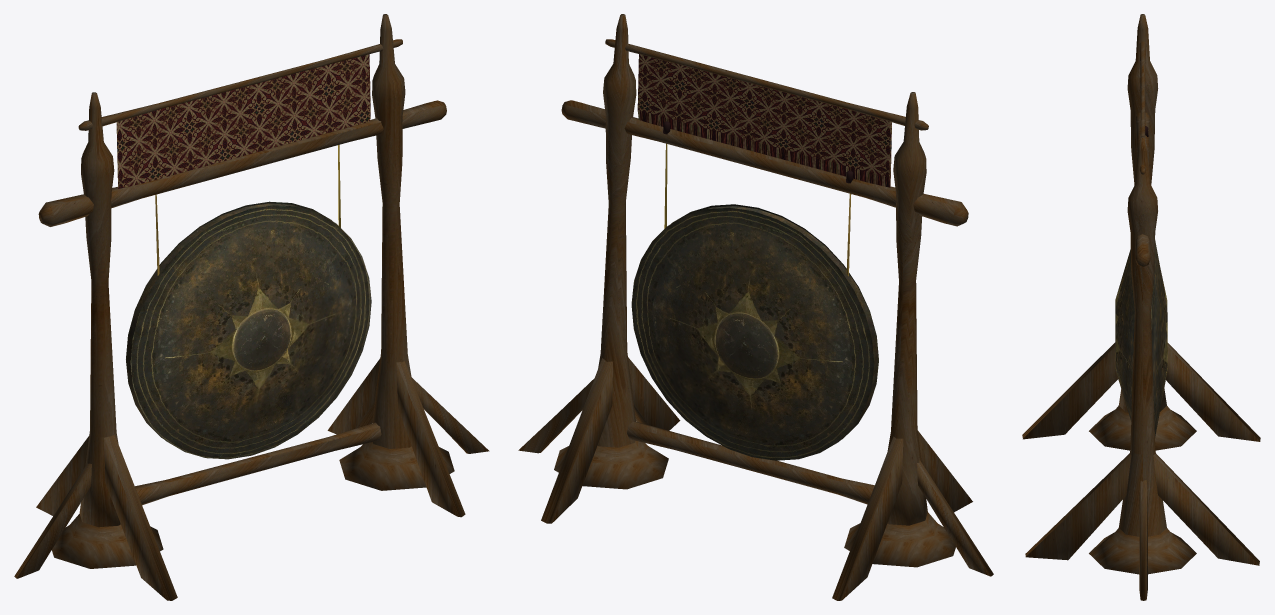
Rendered from framed_gong.glb.
The picture shows the model from 3 angles, left to right: view 1: azimuth 30°, elevation 25°; view 2: azimuth 150°, elevation 25°; view 3: azimuth 270°, elevation 25°; orthographic projection. The views are drawn at different scales.
Parts seen in each view (by area): view 1: Object_2, Object_5, Object_8, Object_6; view 2: Object_2, Object_5, Object_8, Object_6; view 3: Object_5, Object_6, Object_2.
Part boxes in pixels (<box>): Object_2: <box>126,201,371,459</box>; Object_5: <box>14,14,489,600</box>; Object_8: <box>116,54,370,188</box>; Object_6: <box>52,442,454,568</box>; Object_2: <box>631,204,878,460</box>; Object_5: <box>518,14,993,600</box>; Object_8: <box>637,54,891,187</box>; Object_6: <box>554,441,955,567</box>; Object_5: <box>1022,14,1260,600</box>; Object_6: <box>1089,405,1196,574</box>; Object_2: <box>1115,240,1167,437</box>.
Size of the model in its own units: 170 by 162 by 81.7.
7 materials, 4 textured.
